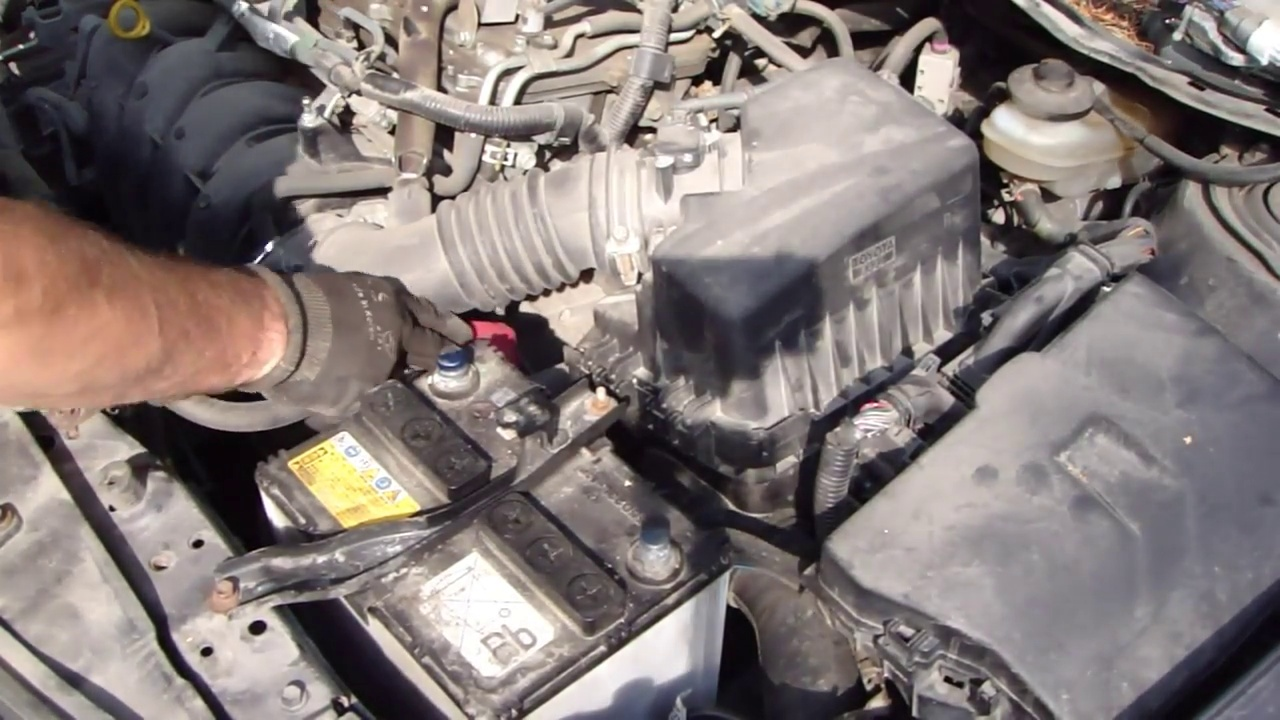battery: (257, 355, 727, 696)
neg_disconnected: (602, 490, 708, 597)
pos_disconnected: (389, 290, 528, 428)
pos_touched: (302, 267, 528, 424)
